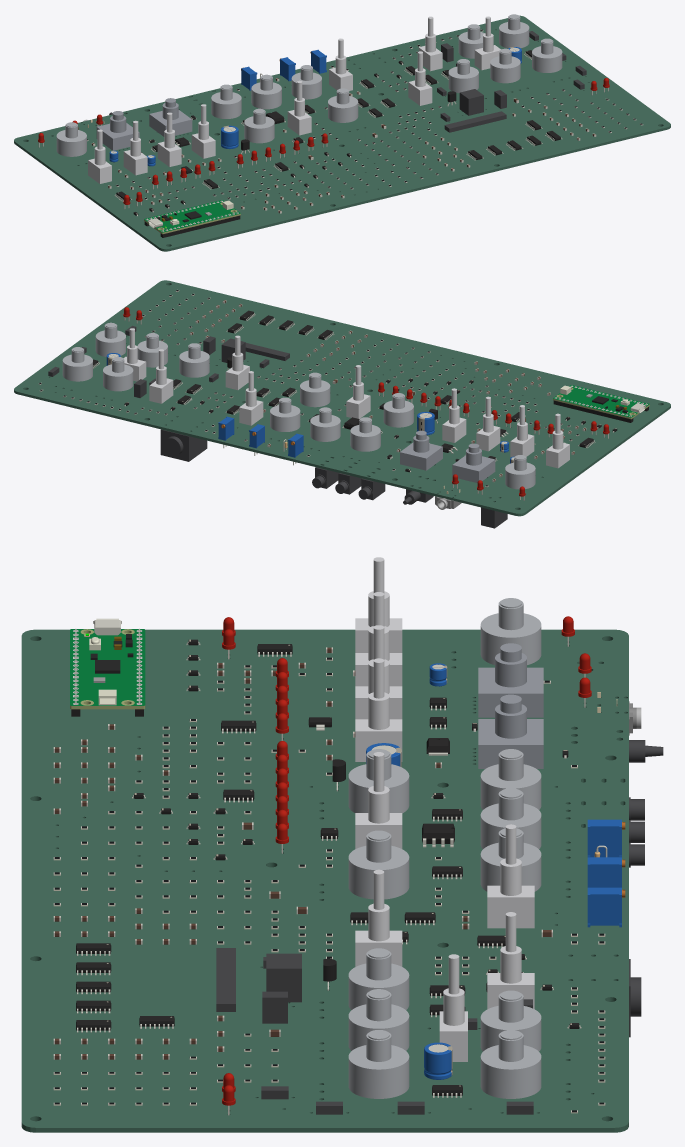
File: hauptplatine.glb
3 renders of one model, top to bottom at view 1: azimuth 30°, elevation 25°; view 2: azimuth 150°, elevation 25°; view 3: azimuth 270°, elevation 25°, orthographic. The views are drawn at different scales.
Parts seen in each view (by area): view 1: platine_hp, bt_U302, bed_SW402, bed_SW401, bed_RV802, bed_RV503, bed_RV602, bed_RV301, bed_RV701, bed_RV502, bed_RV803, bed_RV902 (+15 smaller); view 2: platine_hp, bt_U302, bed_SW402, bed_SW401, huelle_J901, bed_RV902, bed_RV701, bed_RV901, bed_RV801, bed_RV502, bed_RV503, bed_RV602 (+18 smaller); view 3: platine_hp, bt_U302, bed_SW402, bed_RV902, bed_RV803, bed_SW401, bed_RV602, bed_SW701, bed_RV301, bed_RV802, bed_RV801, bed_RV502 (+19 smaller).
Part boxes in pixels (<box>): platine_hp: <box>14,15,670,251</box>; bt_U302: <box>144,200,240,237</box>; bed_SW402: <box>149,98,192,136</box>; bed_SW401: <box>96,111,139,150</box>; bed_RV802: <box>490,48,520,83</box>; bed_RV503: <box>251,74,281,109</box>; bed_RV602: <box>328,88,358,122</box>; bed_RV301: <box>56,122,86,156</box>; bed_RV701: <box>244,108,274,143</box>; bed_RV502: <box>211,84,241,118</box>; bed_RV803: <box>532,38,562,72</box>; bed_RV902: <box>499,14,529,48</box>; platine_hp: <box>14,280,670,516</box>; bt_U302: <box>553,385,649,422</box>; bed_SW402: <box>400,430,442,470</box>; bed_SW401: <box>452,443,495,482</box>; huelle_J901: <box>160,429,207,461</box>; bed_RV902: <box>62,347,92,381</box>; bed_RV701: <box>383,393,413,427</box>; bed_RV901: <box>103,356,133,391</box>; bed_RV801: <box>179,343,209,377</box>; bed_RV502: <box>350,417,380,451</box>; bed_RV503: <box>310,407,340,441</box>; bed_RV602: <box>300,372,330,407</box>; platine_hp: <box>21,629,628,1132</box>; bt_U302: <box>70,618,145,716</box>; bed_SW402: <box>478,694,543,768</box>; bed_RV902: <box>480,1030,541,1098</box>; bed_RV803: <box>348,1030,409,1098</box>; bed_SW401: <box>478,643,543,717</box>; bed_RV602: <box>348,830,409,899</box>; bed_SW701: <box>487,824,534,928</box>; bed_RV301: <box>480,598,541,664</box>; bed_RV802: <box>348,989,409,1050</box>; bed_RV801: <box>348,948,409,1009</box>; bed_RV502: <box>480,749,541,809</box>.
Bounding box in the file's own units: 330 × 46.77 × 180.
